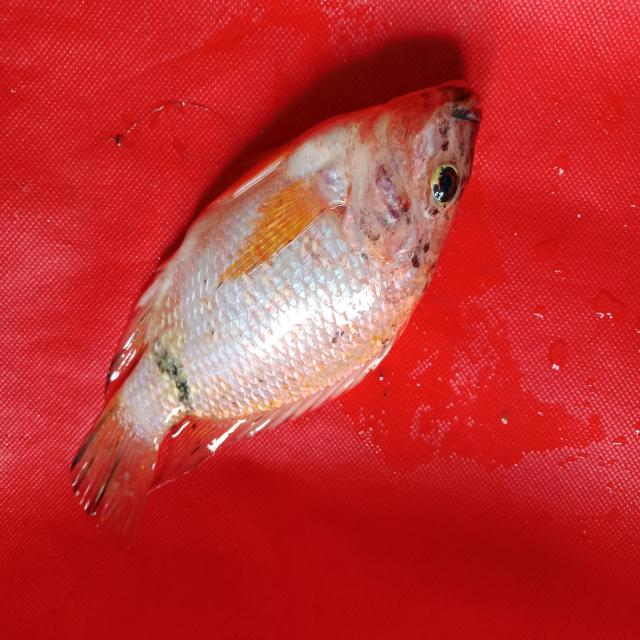ikan: (37, 59, 493, 523)
